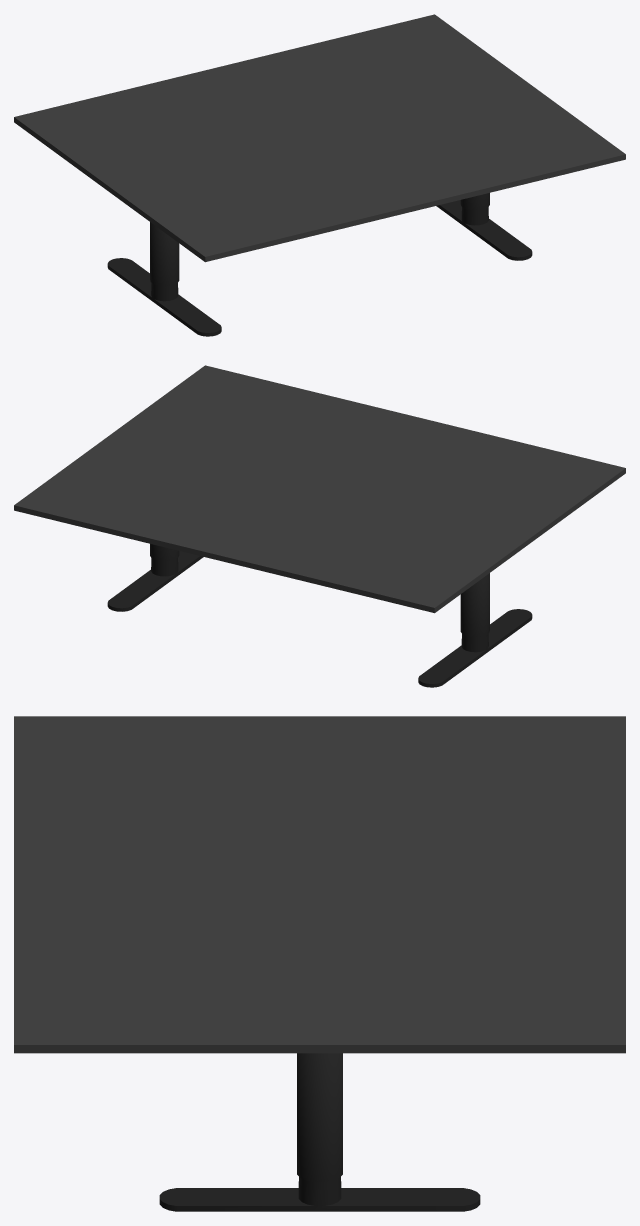
The model's file is Table_new.fbx.
3 renders of one model, top to bottom at view 1: azimuth 30°, elevation 25°; view 2: azimuth 150°, elevation 25°; view 3: azimuth 270°, elevation 25°, orthographic. The views are drawn at different scales.
Parts seen in each view (by area): view 1: Cube, Cylinder.008; view 2: Cube, Cylinder.008; view 3: Cube, Cylinder.008.
Part boxes in pixels (x1,y1,x2,y2): Cube: [14, 14, 625, 262]; Cylinder.008: [107, 193, 532, 336]; Cube: [14, 365, 625, 613]; Cylinder.008: [107, 544, 532, 687]; Cube: [14, 716, 625, 1053]; Cylinder.008: [159, 1053, 480, 1211].
Bounding box in the file's own units: 339 × 96.73 × 267.
Materials: 1 (1 with a texture image).
